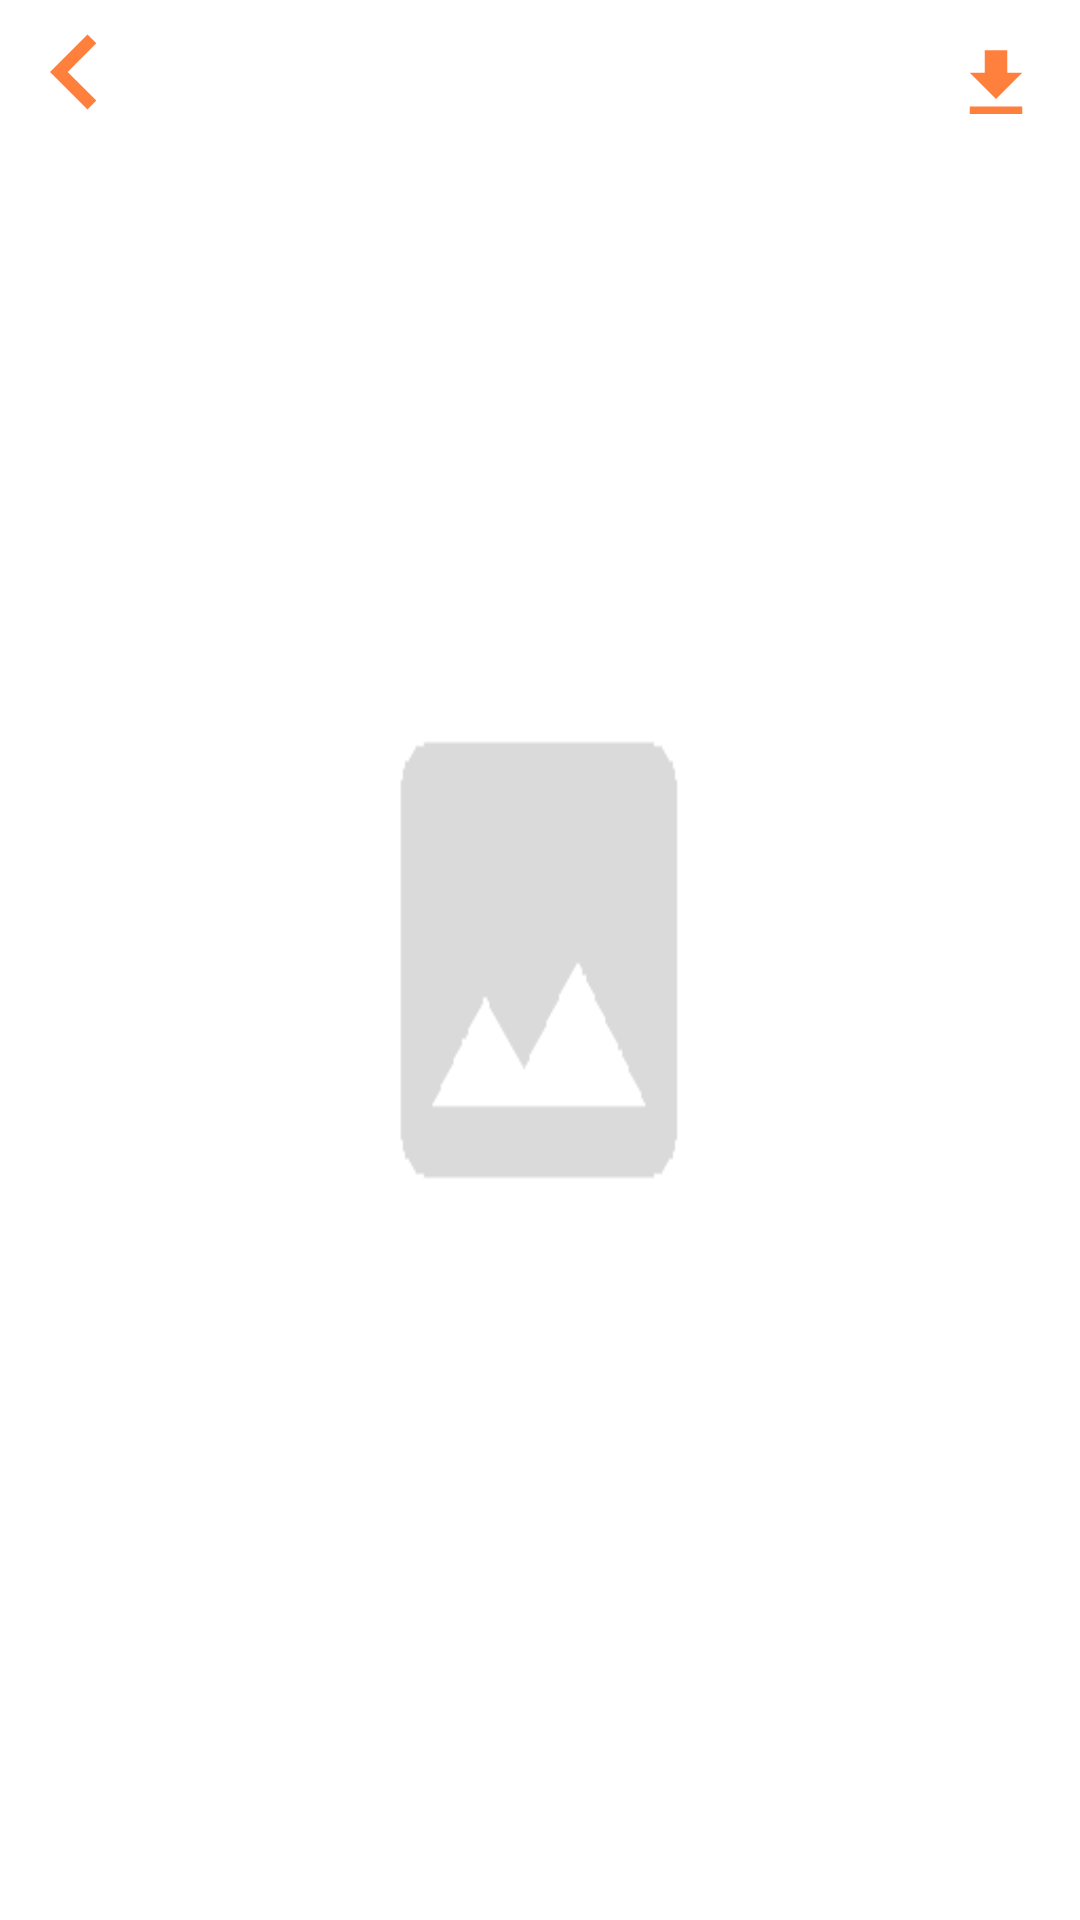

Screen size 1080*1920. Icon name, then its center in pixels as (x=x, y=y):
back: (x=73, y=72)
file download: (x=996, y=82)
